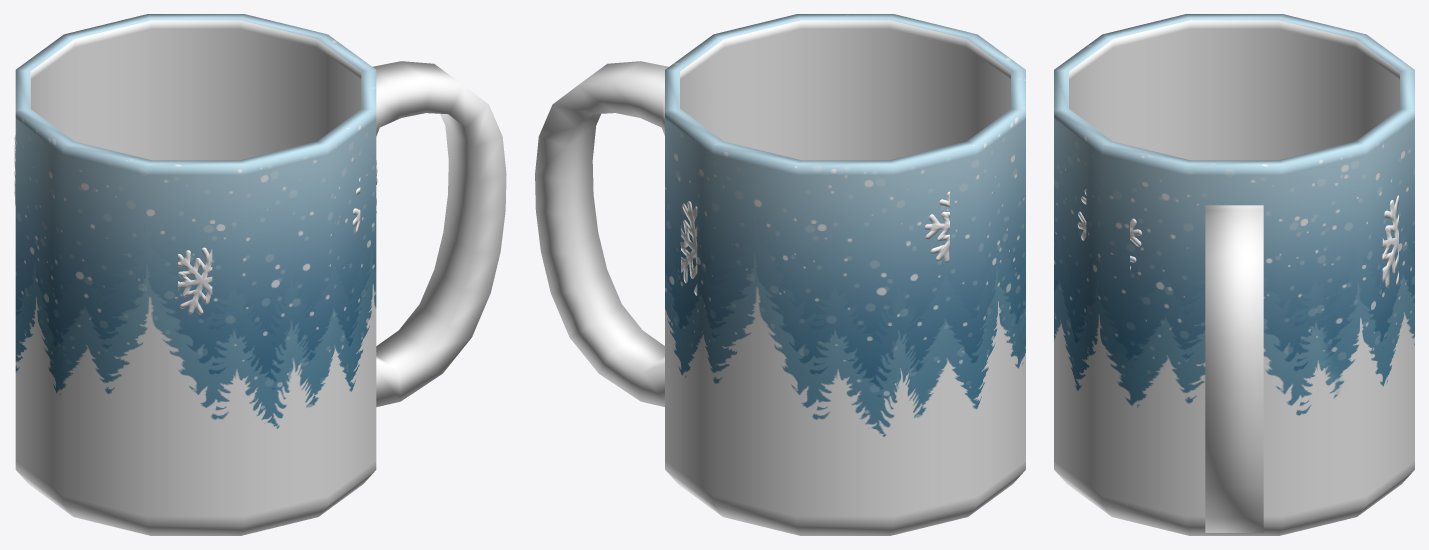
File: Winter_Mug.glb
3 renders of one model, left to right at view 1: azimuth 30°, elevation 25°; view 2: azimuth 150°, elevation 25°; view 3: azimuth 270°, elevation 25°, orthographic.
Parts seen in each view (by area): view 1: Winter Mug, Decorative Snowflakes; view 2: Winter Mug, Decorative Snowflakes; view 3: Winter Mug, Decorative Snowflakes.
Boxes of the visible parts, <box> form: Winter Mug: <box>15,14,506,535</box>; Decorative Snowflakes: <box>14,135,377,314</box>; Winter Mug: <box>535,14,1025,535</box>; Decorative Snowflakes: <box>681,191,949,295</box>; Winter Mug: <box>1054,14,1414,535</box>; Decorative Snowflakes: <box>1077,189,1398,288</box>.
Bounding box in the file's own units: 0.117 × 0.095 × 0.0808.
2 materials, 1 textured.
